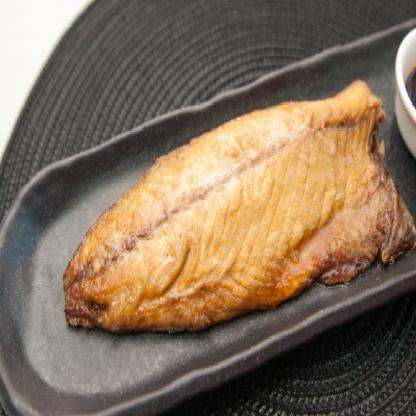Peixe: (53, 65, 416, 360)
